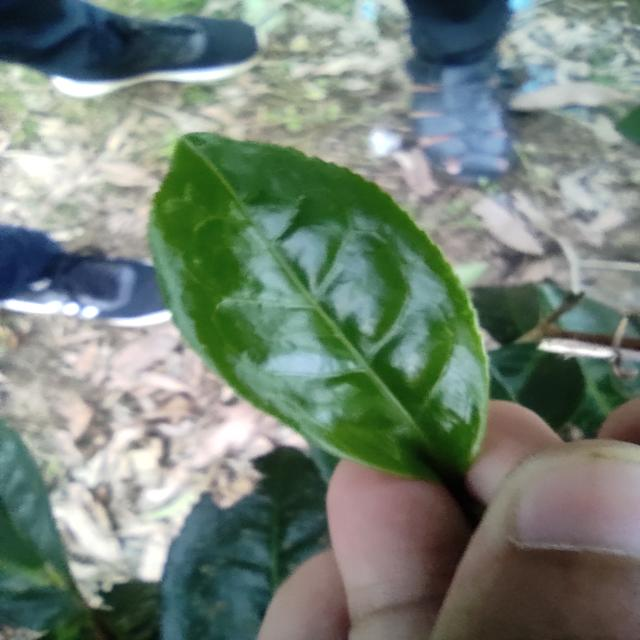Category C 4-7 days: (81, 84, 544, 510)
